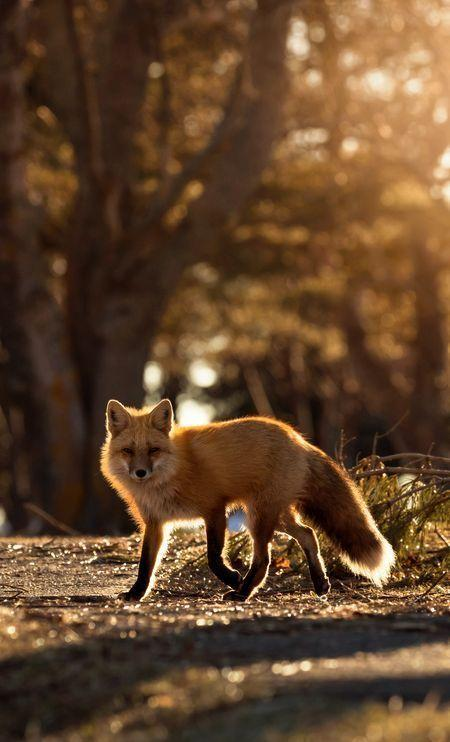fox: (93, 392, 393, 611)
